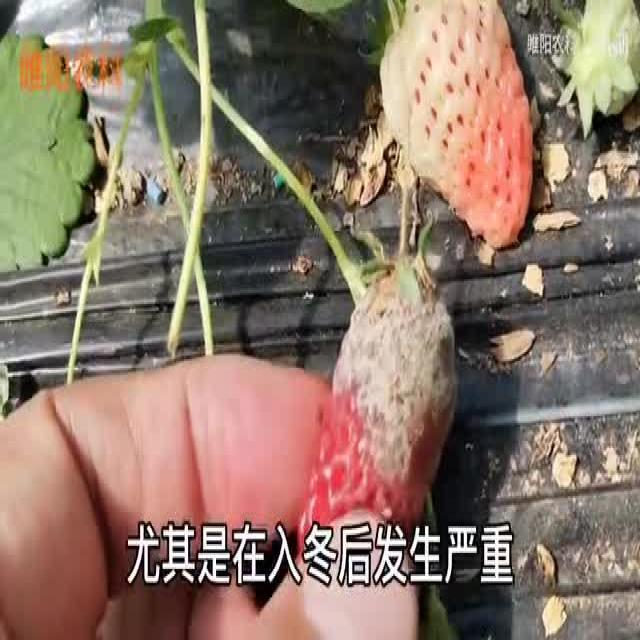Fruta sana: (380, 0, 537, 251), (557, 0, 640, 135)
Moho gris: (298, 263, 458, 558)
